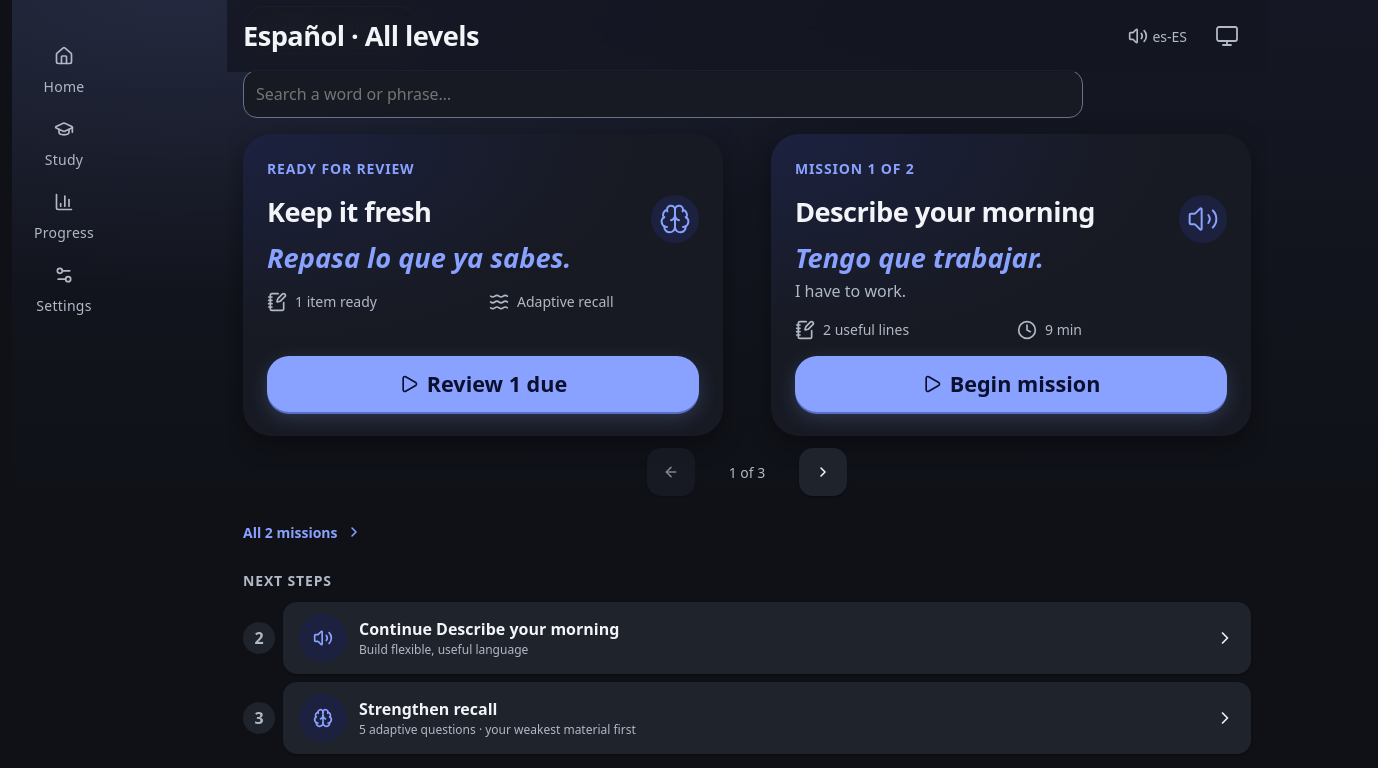
Test case: the session the choice starts › leaves "review what is due" unnarrowed
(page scrolled)
Click the button "Review 1 due" at [483, 384], box top-left (267, 356), bottom-right (699, 412)
(page scrolled)
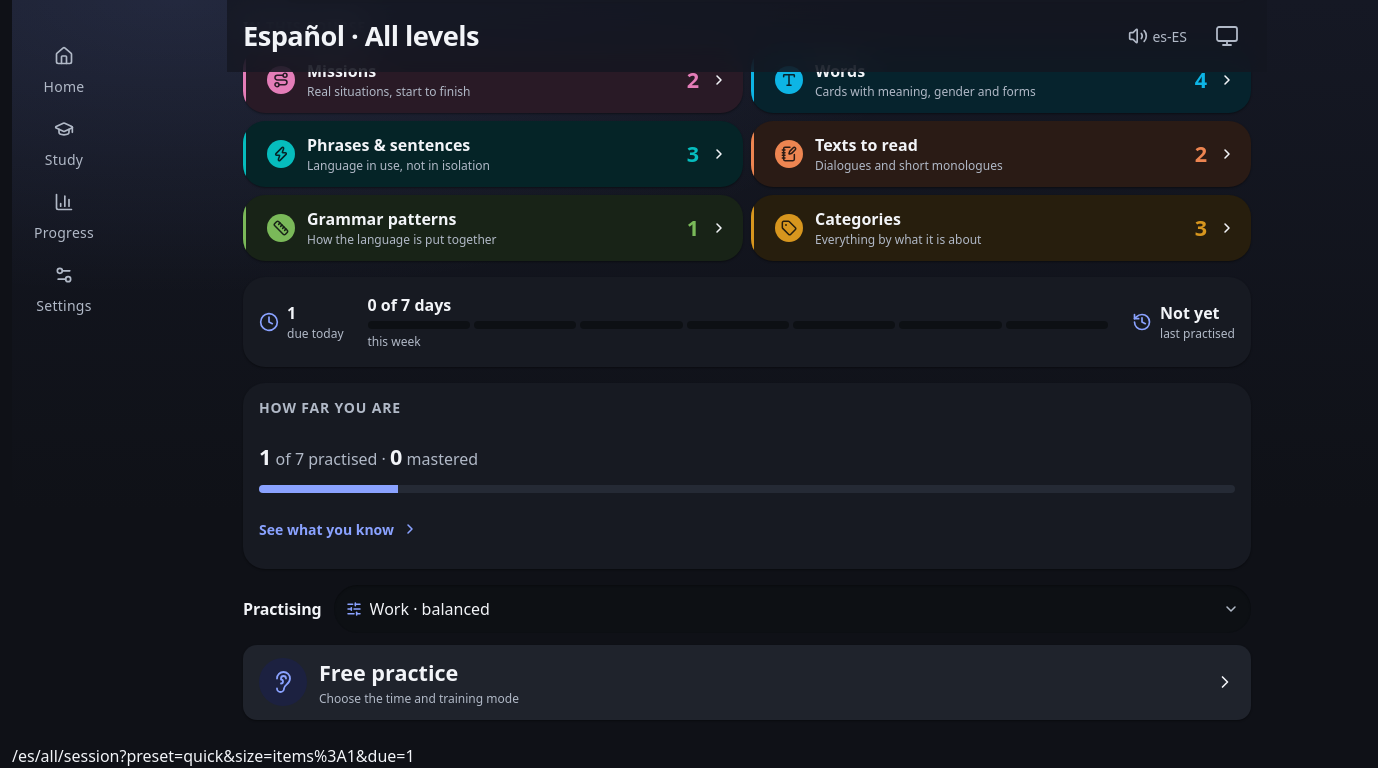
Expected: the text with test id "where" shows "due=1", top-left (12, 745), bottom-right (415, 767)
